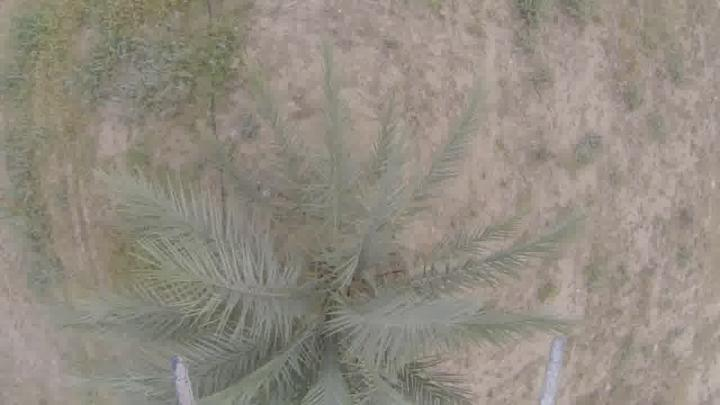Date-Palm-Crown: (204, 206, 482, 404)
